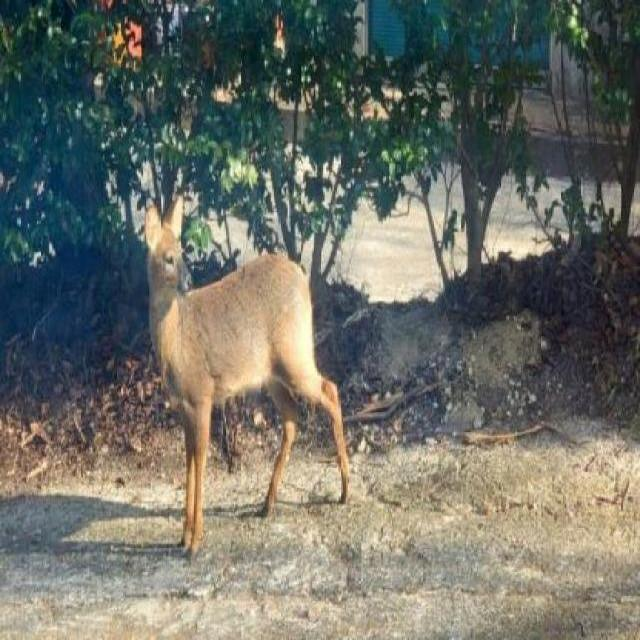deer: (138, 184, 360, 580)
